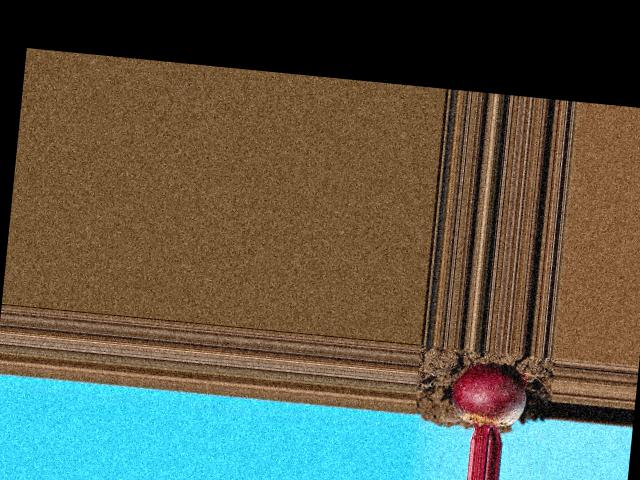beet: (447, 360, 530, 445)
